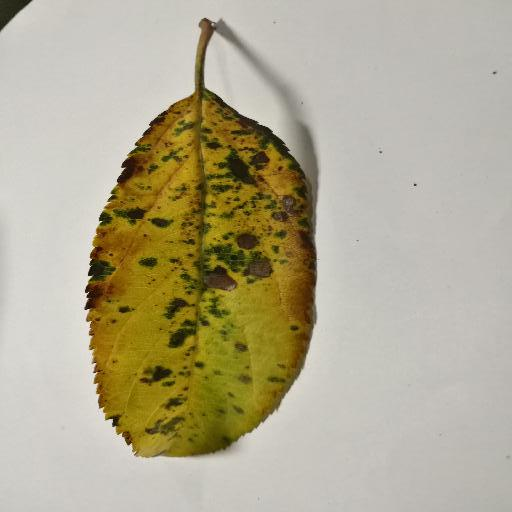Brown_Spot: (113, 142, 298, 387)
